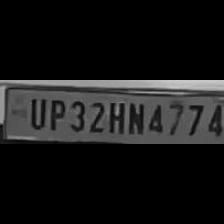2: (86, 97, 104, 133)
3: (66, 96, 86, 132)
4: (144, 100, 164, 136), (203, 102, 221, 136)
7: (183, 100, 203, 136), (164, 99, 182, 135)
H: (105, 98, 124, 134)
N: (125, 99, 144, 135)
P: (46, 96, 66, 130)
U: (25, 94, 45, 130)
